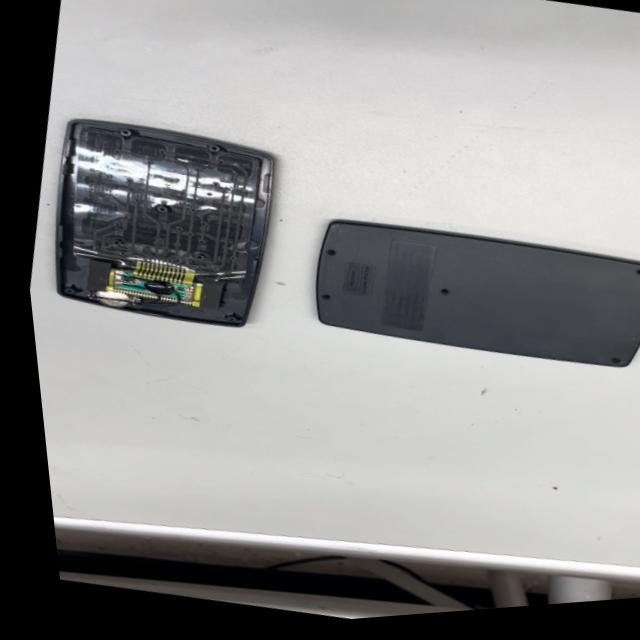screw: (17, 95, 299, 356)
